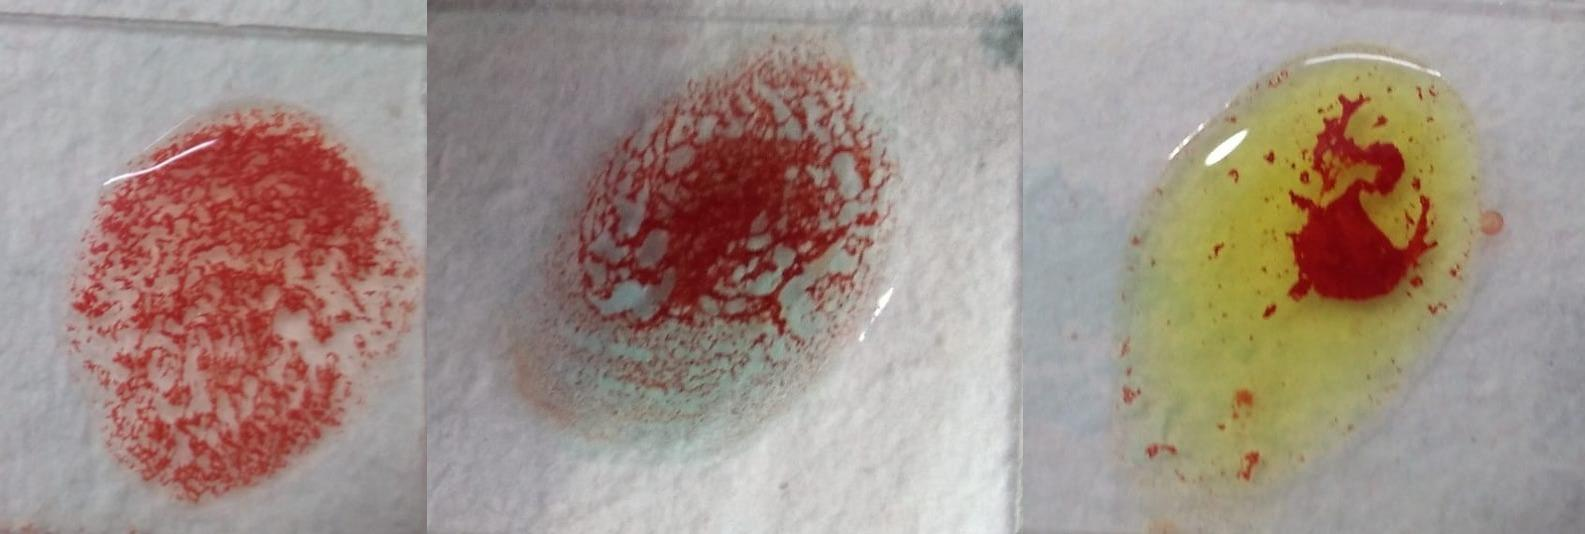A: (515, 45, 899, 443)
B: (1123, 53, 1469, 492)
D: (84, 103, 390, 495)
